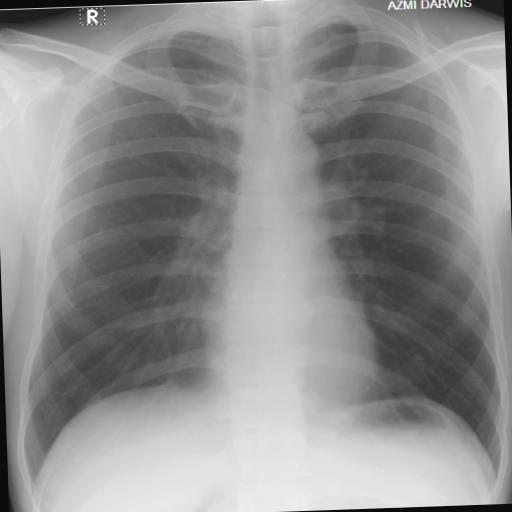normal: (3, 7, 512, 501)
